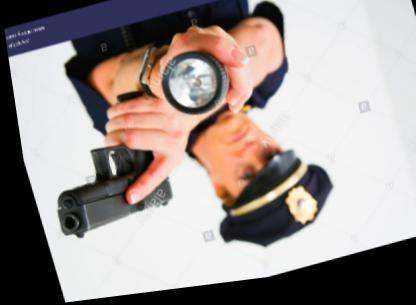pistol: (23, 89, 174, 245)
